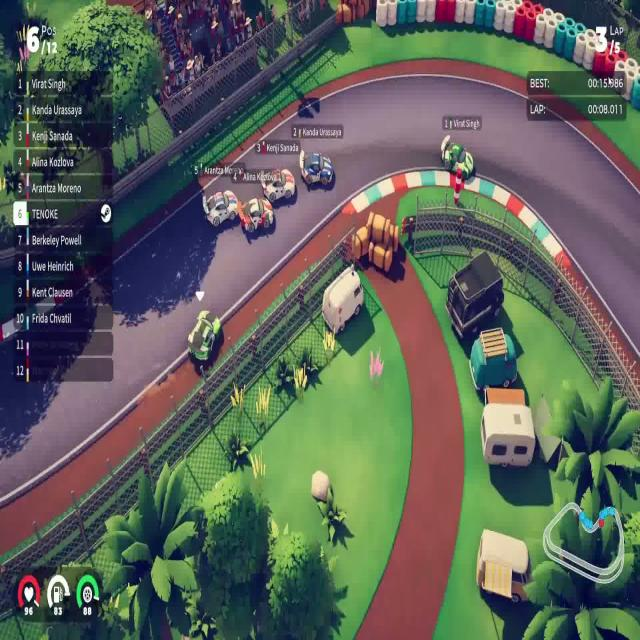car: (186, 308, 222, 364), (440, 134, 474, 181), (201, 188, 238, 227), (237, 196, 274, 234), (258, 166, 295, 204), (299, 149, 333, 187)
